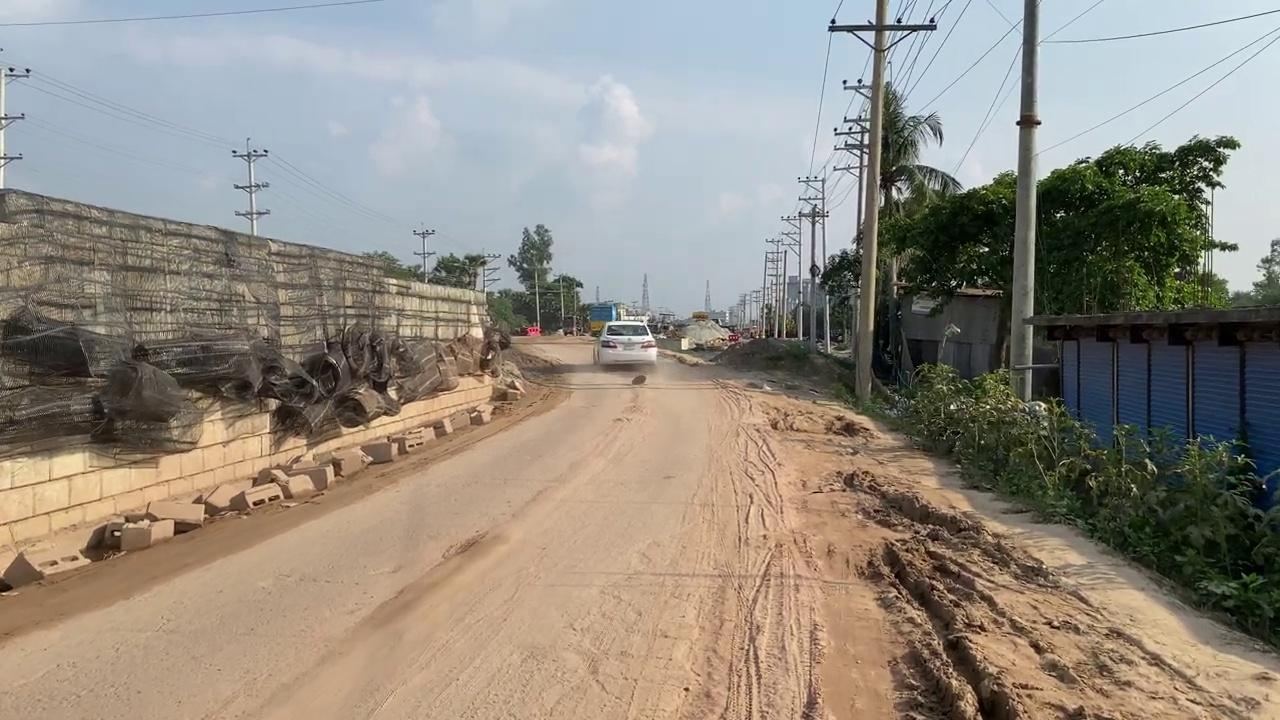Car: (592, 320, 657, 367)
Fence: (1022, 305, 1279, 516)
Garbage: (0, 304, 524, 453)
Muddy road: (733, 332, 1277, 720)
Pole: (853, 0, 888, 410), (1008, 0, 1040, 402)
Rickshaw: (659, 328, 1110, 720)
Traffic-sign: (829, 79, 963, 401), (506, 222, 553, 330)
Tree: (585, 301, 649, 336), (655, 311, 675, 332), (691, 310, 709, 322)
Upstairs: (0, 185, 510, 565)
